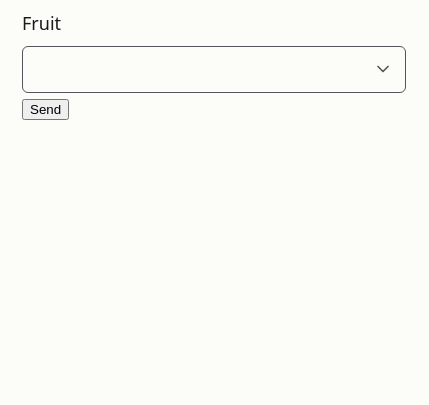
forms › does not submit when Enter selects an option
Step 1. Click the dropdown → [192, 69], box [23,47,361,92]
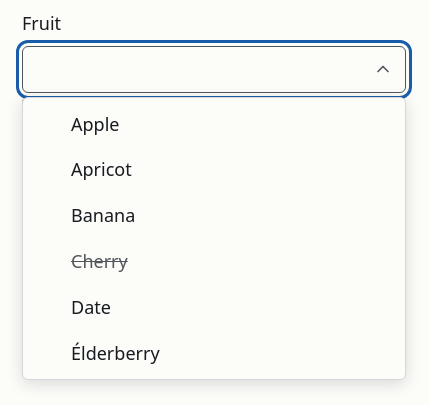
Step 2. Press Arrowdown Enter
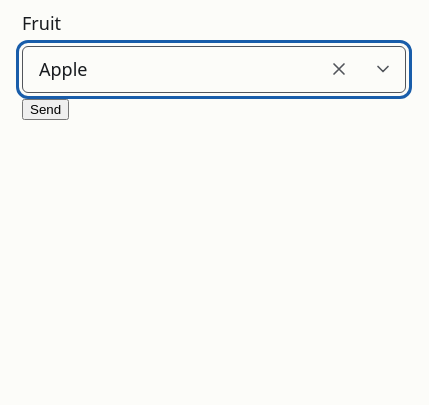
expect the dropdown holds "Apple": met, box [23,47,317,92]
